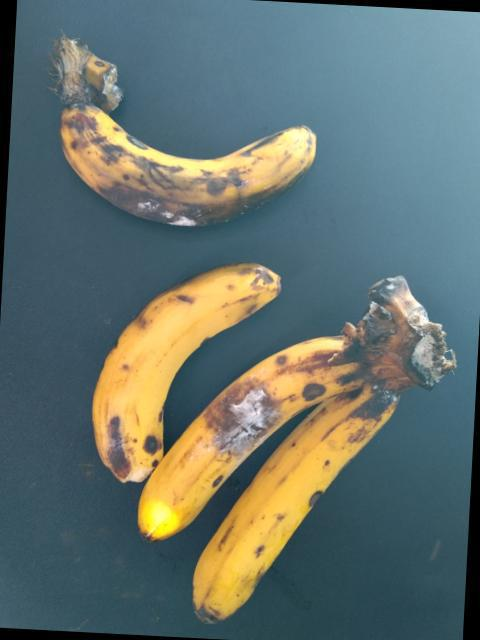overripe: (70, 251, 292, 500), (185, 388, 416, 617), (114, 333, 367, 533)
rotten: (47, 86, 337, 251)
